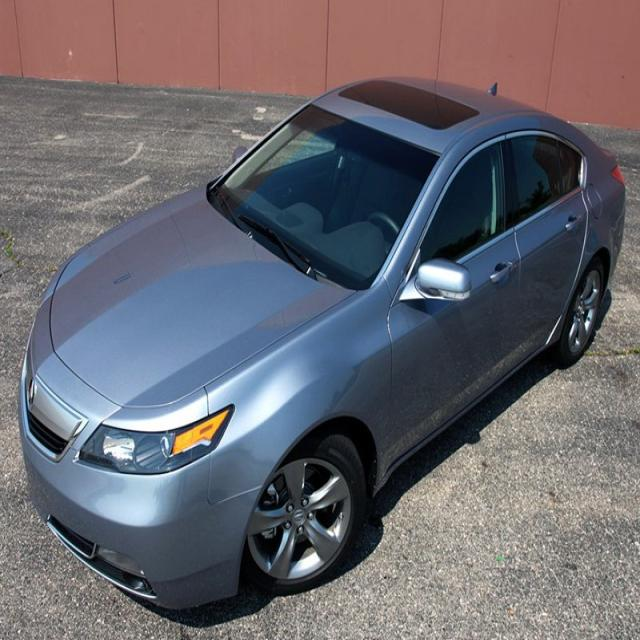back_left_side_light: (612, 160, 629, 188)
door: (503, 138, 588, 347)
front_glass: (210, 102, 440, 290)
front_left_side_door: (387, 129, 522, 474)
front_left_side_light: (75, 403, 236, 476)
front_left_side_mirror: (397, 258, 473, 304)
front_right_side_mirror: (231, 141, 249, 166)
wheel: (235, 421, 367, 595), (556, 256, 606, 369)
